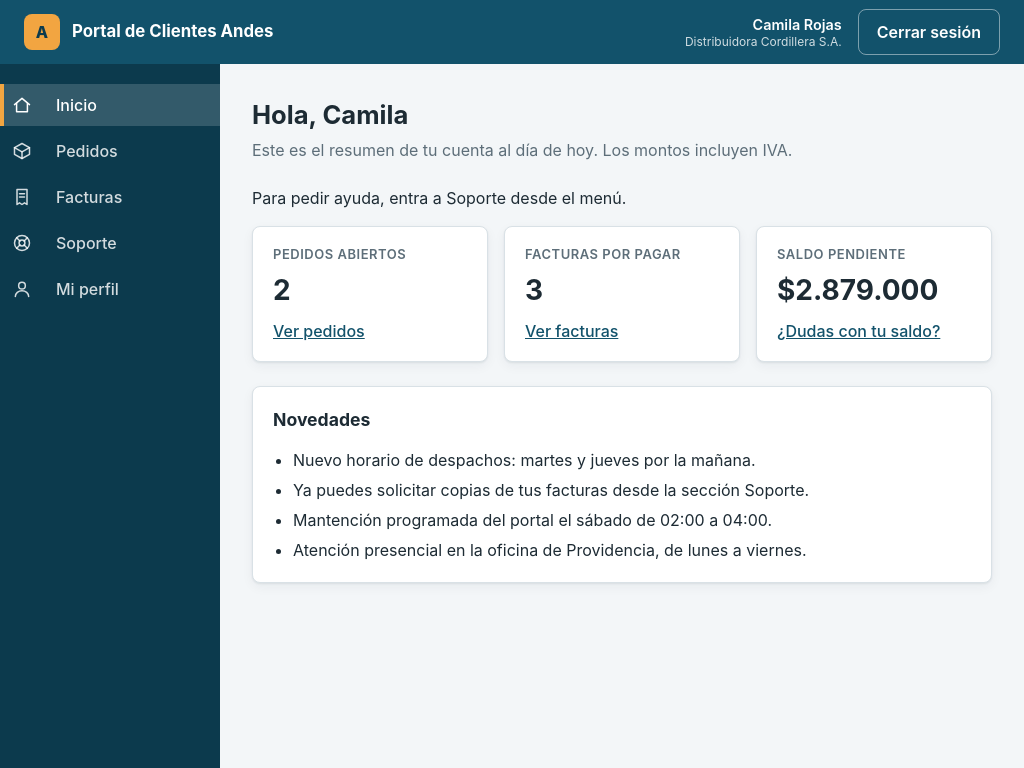
Test: AppLayout › cierra la sesión
Click the button "Cerrar sesión": {"x": 929, "y": 32} [858,9,1000,55]
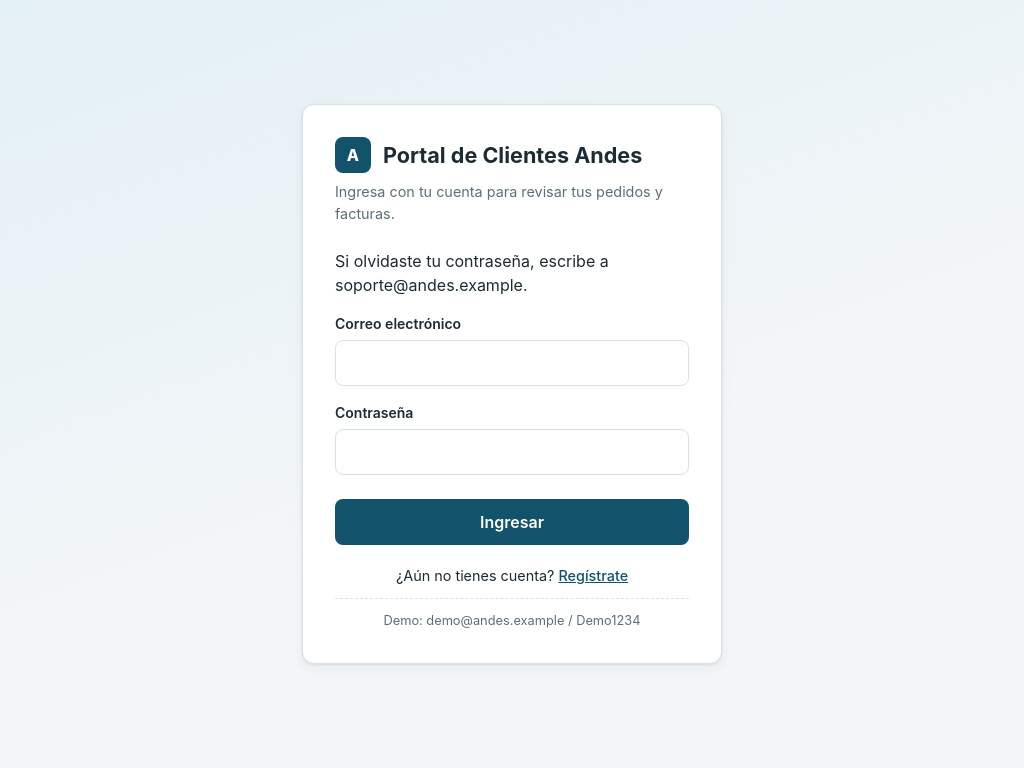
Check: the button "Ingresar" is shown, box [335,499,689,545]
